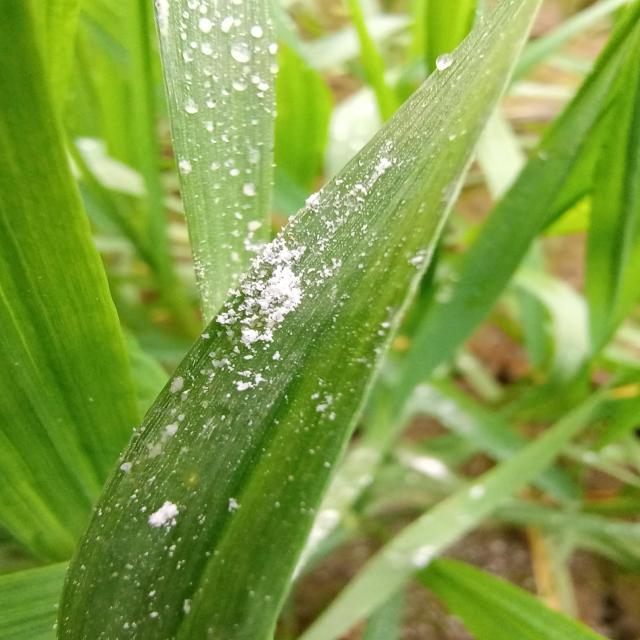Powdery_Mildew: (143, 4, 377, 551)
